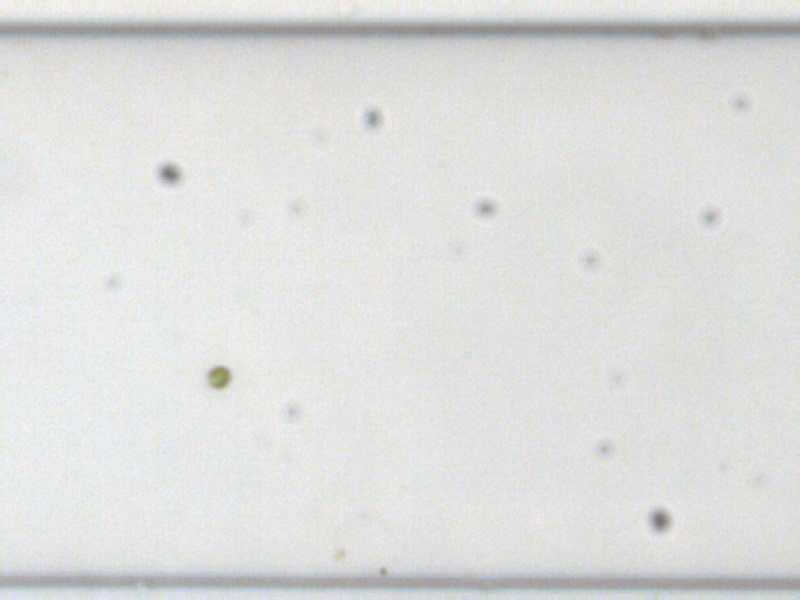Platymonas: (206, 364, 230, 390)
